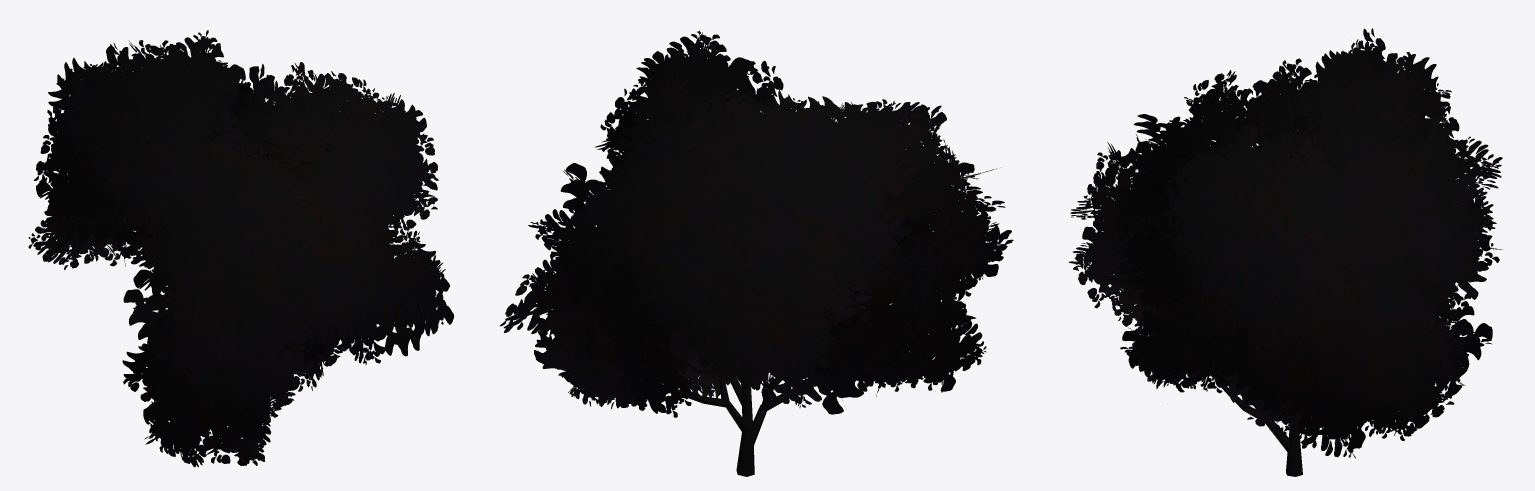
File: test-tree3.glb
3 views of the same model, side by side, from view 1: azimuth 30°, elevation 25°; view 2: azimuth 150°, elevation 25°; view 3: azimuth 270°, elevation 25° (orthographic). The views are drawn at different scales.
Visible parts, largest first — view 1: trunk.009; view 2: trunk.009; view 3: trunk.009.
Part boxes in pixels (x1=…): trunk.009: x1=28, y1=30, x2=454, y2=467; trunk.009: x1=500, y1=30, x2=1013, y2=476; trunk.009: x1=1068, y1=28, x2=1502, y2=476.
Bounding box in the file's own units: 39.97 × 43.56 × 45.22.
1 material, 1 textured.
